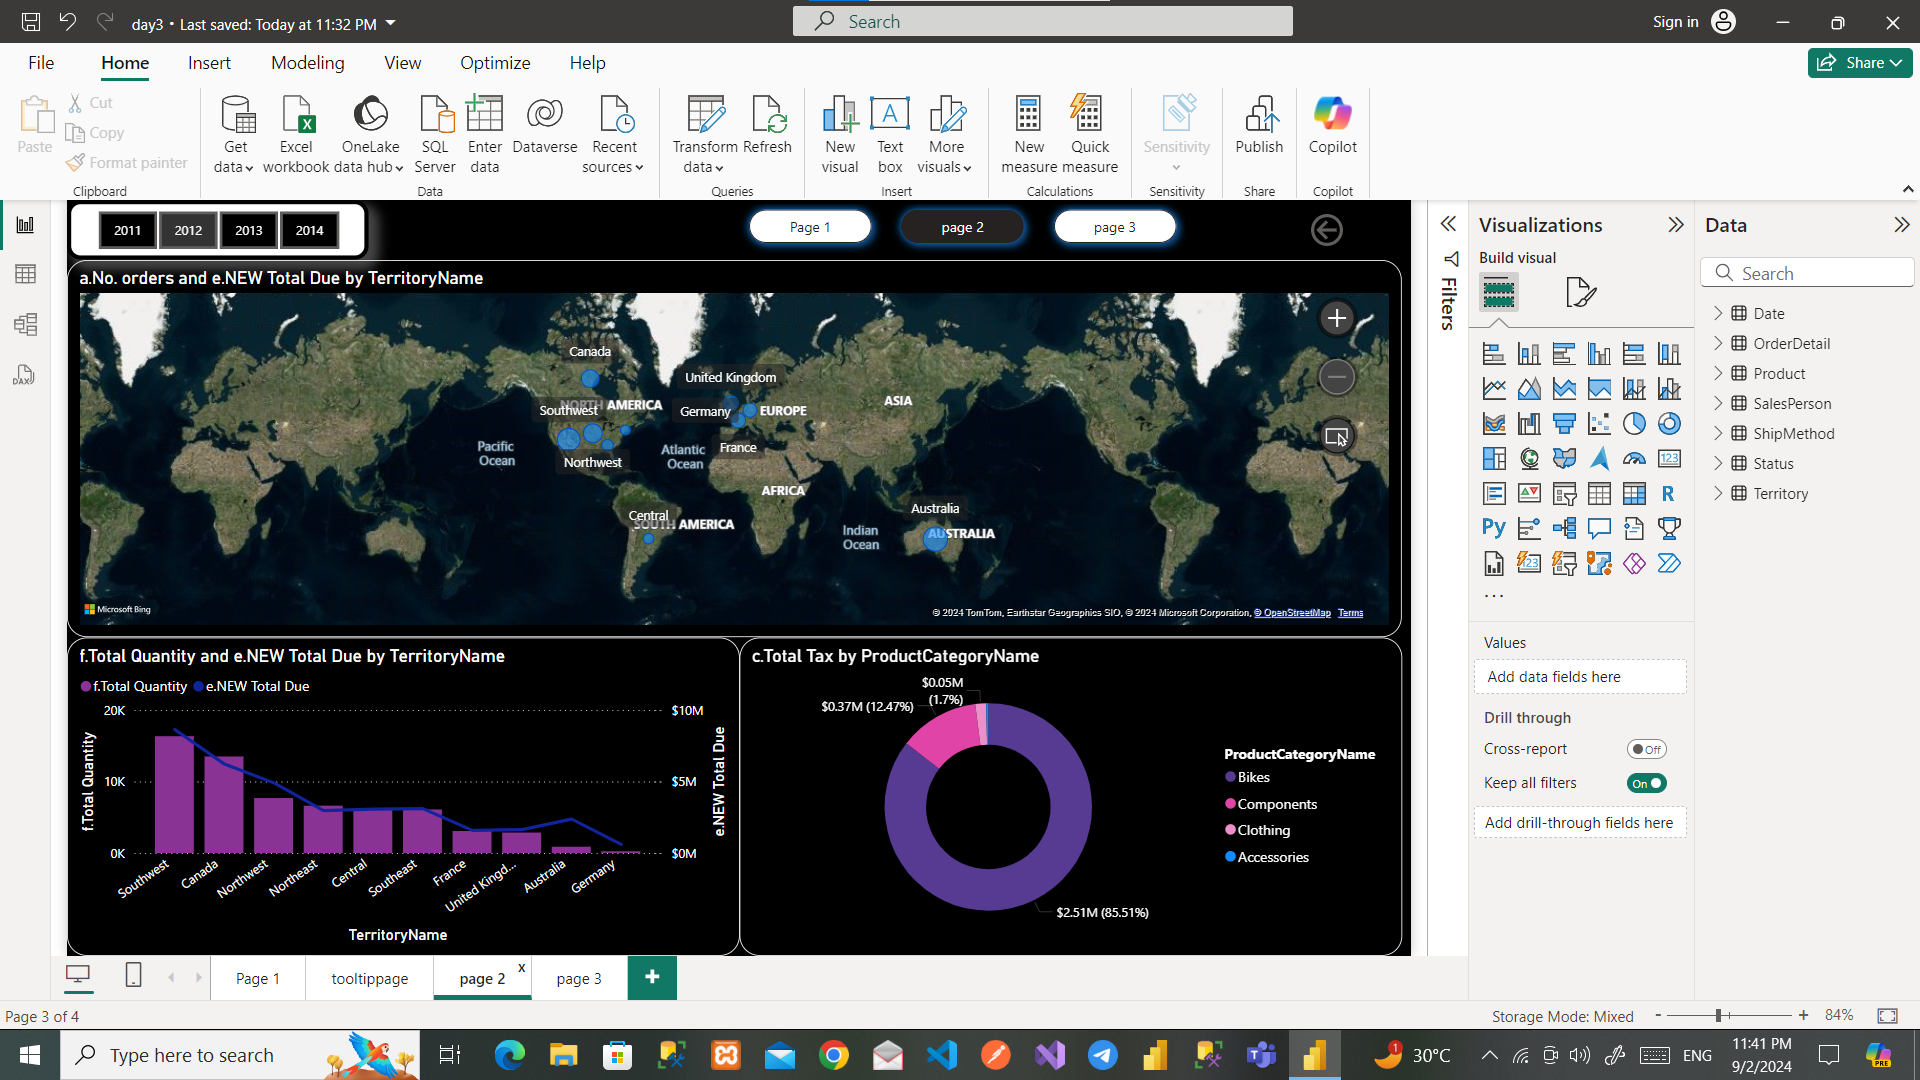

What the dashboard file says about the page in this screenshot:
{"tool":"powerbi","page":{"name":"page 2","canvas":[1280,720],"ordinal":2},"visuals":[{"type":"lineStackedColumnComboChart","fields":{"Category":["Territory.TerritoryName"],"Y":["OrderDetail.f.Total Quantity"],"Y2":["OrderDetail.e.NEW Total Due"]},"box":[0,416.7,640.5,303.6],"z":0},{"type":"map","fields":{"Category":["Territory.TerritoryName"],"Size":["OrderDetail.a.No. orders"]},"box":[0,57.1,1271.4,359.5],"z":1000},{"type":"donutChart","fields":{"Y":["OrderDetail.c.Total Tax"],"Category":["Product.ProductCategoryName"]},"box":[640.5,416.7,631,303.6],"z":2000},{"type":"slicer","fields":{"Values":["Date.Year"]},"box":[0,0,286.9,57.1],"z":3000},{"type":"actionButton","box":[1179.8,8.3,100,40.5],"z":4000},{"type":"pageNavigator","box":[640.5,0,426.2,50],"z":5000}]}

Visuals, with their boxes on the page's 1280x720 design canvas (x1, y1, x2, y2). These are canvas units, not pixel positions in the 1920x1080 screenshot, which may show the page scaled, cropped or inside an application window:
lineStackedColumnComboChart - Territory.TerritoryName x OrderDetail.f.Total Quantity: select_region(0, 417, 640, 720)
map - Territory.TerritoryName x OrderDetail.a.No. orders: select_region(0, 57, 1271, 417)
donutChart - OrderDetail.c.Total Tax x Product.ProductCategoryName: select_region(640, 417, 1272, 720)
slicer - Date.Year: select_region(0, 0, 287, 57)
actionButton: select_region(1180, 8, 1280, 49)
pageNavigator: select_region(640, 0, 1067, 50)
